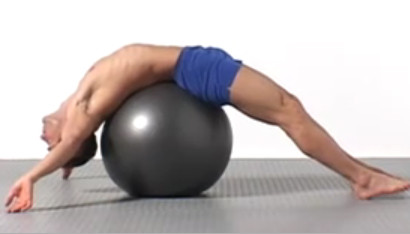yogaball: (100, 79, 233, 199)
